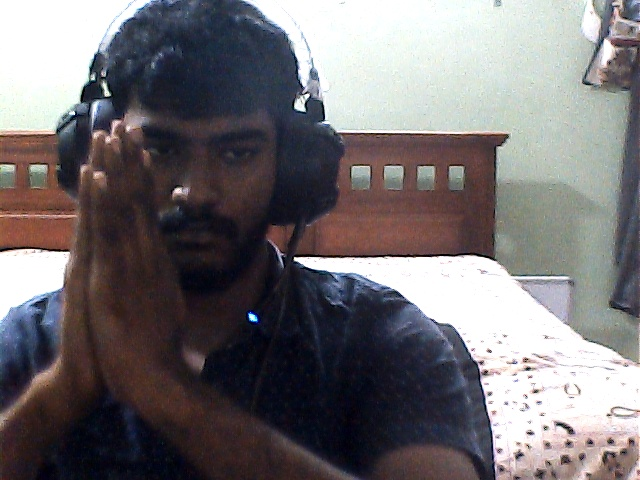Sign: (49, 112, 196, 427)
